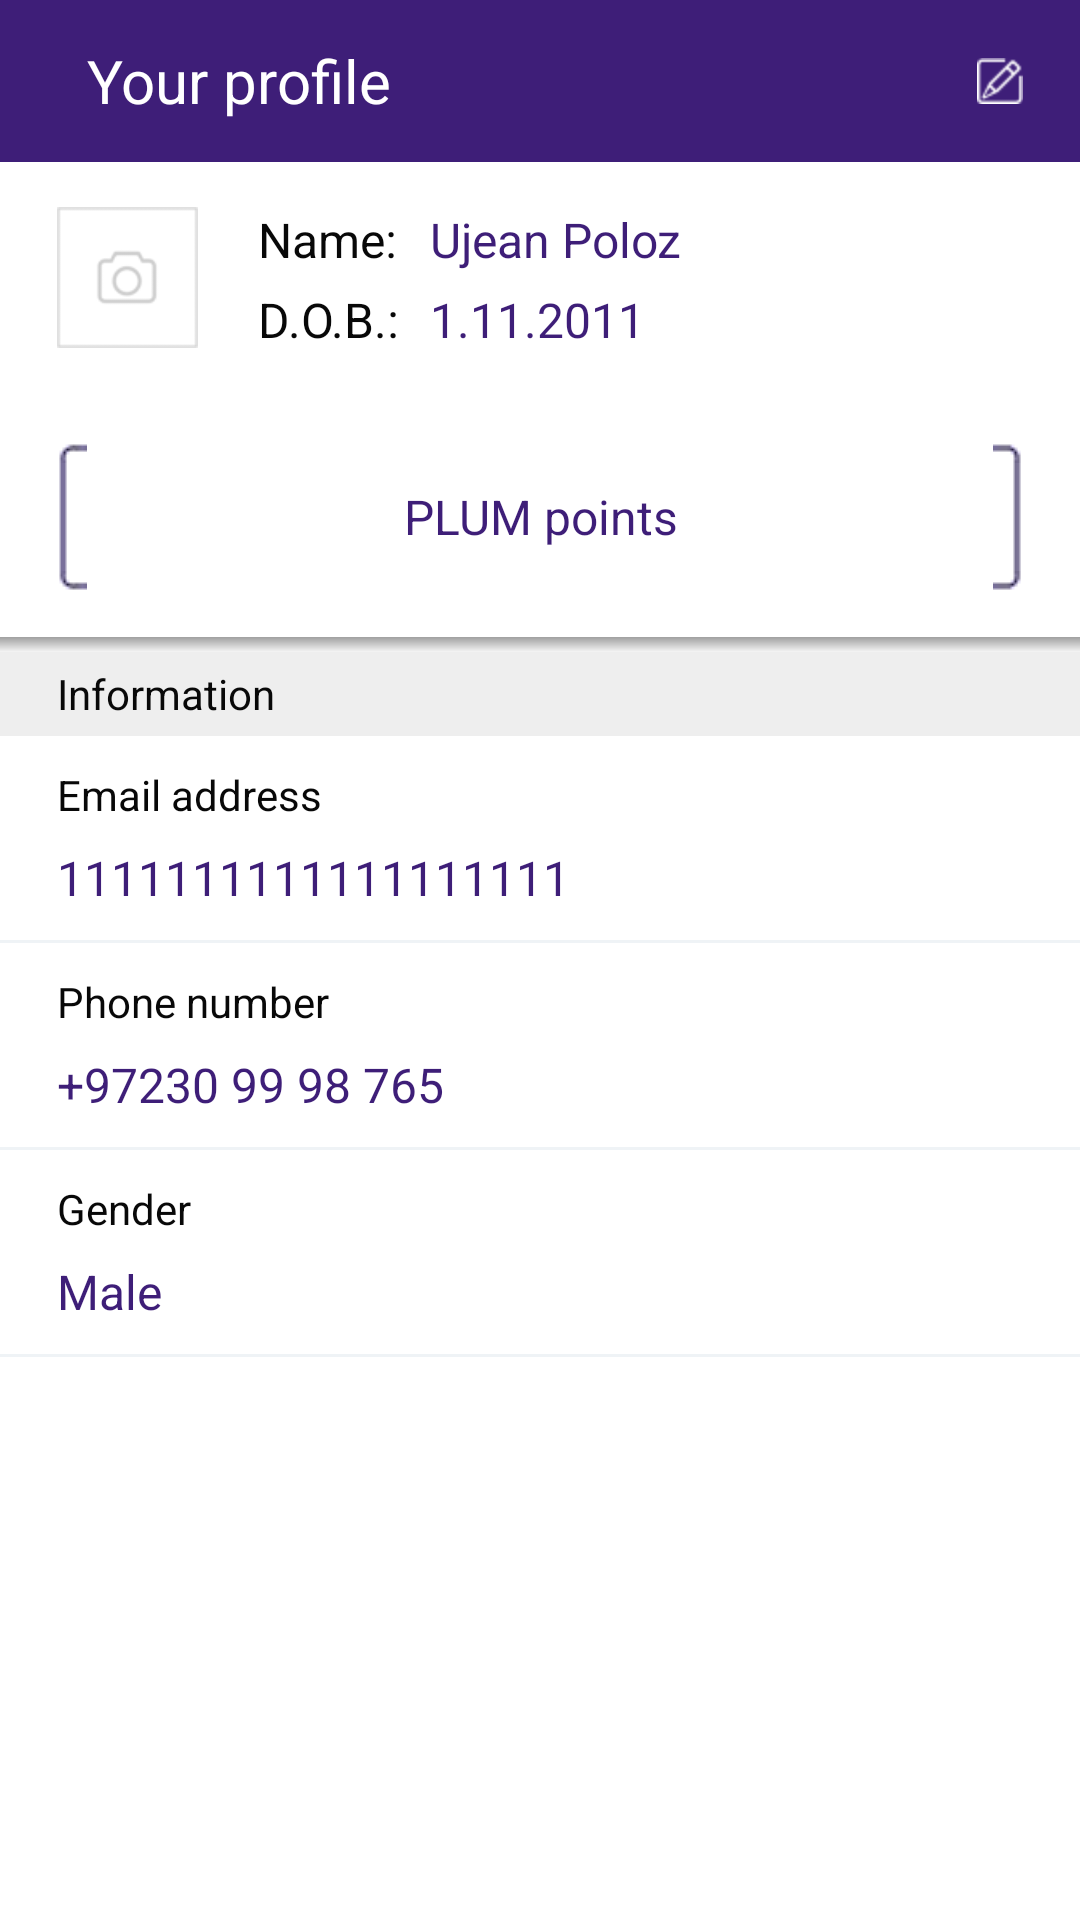

Locate icon controls on the screen. Image size 1080x1920, boxes as (x1, y1, x2, y2).
pen: (977, 58, 1023, 104)
photo profil: (57, 207, 198, 348)
